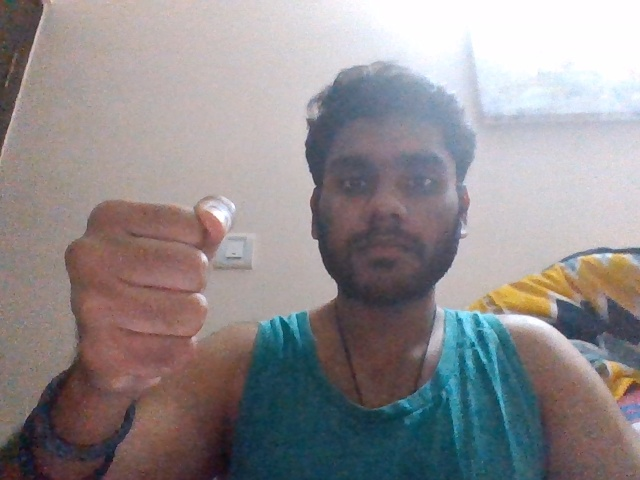yes: (49, 191, 250, 402)
